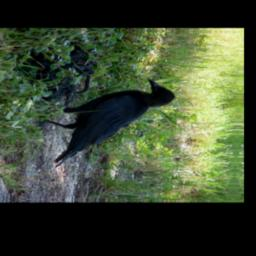Crow: (34, 77, 177, 170)
